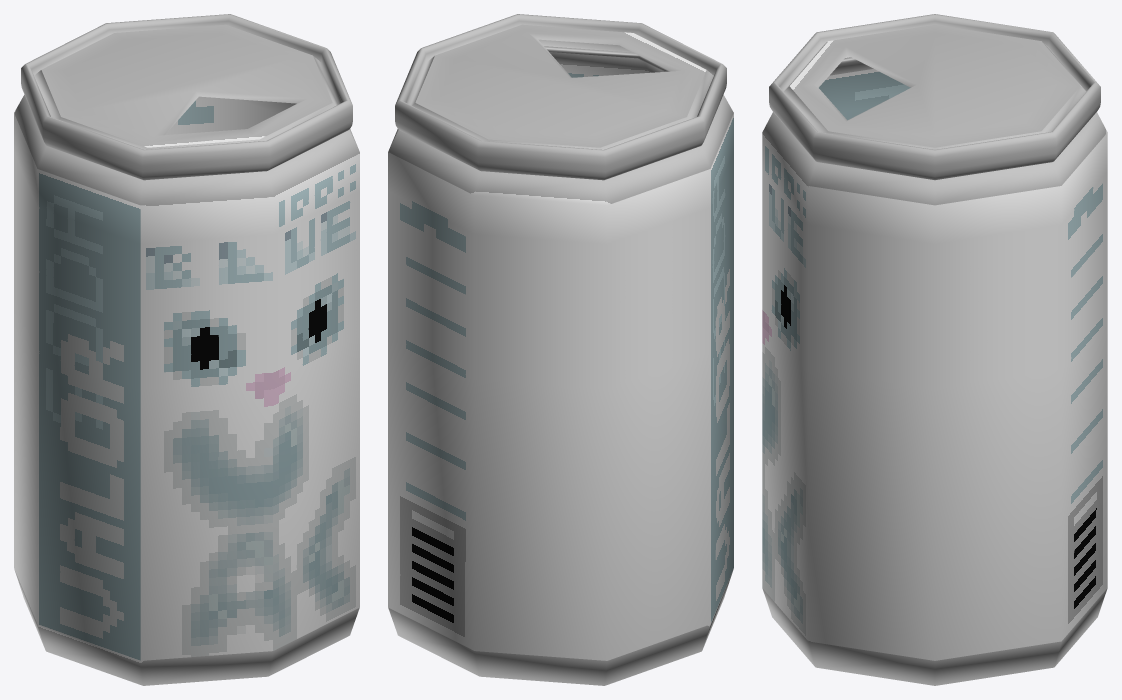
The model's file is can.glb.
The picture shows the model from 3 angles, left to right: view 1: azimuth 30°, elevation 25°; view 2: azimuth 150°, elevation 25°; view 3: azimuth 270°, elevation 25°; orthographic projection.
Visible parts, largest first — view 1: Plane; view 2: Plane; view 3: Plane.
Boxes of the visible parts, x1,y1,x2,y2 form: Plane: [14, 14, 359, 685]; Plane: [388, 14, 733, 685]; Plane: [762, 14, 1107, 685].
Bounding box in the file's own units: 1.94 × 3.32 × 1.94.
Materials: 1 (1 with a texture image).
